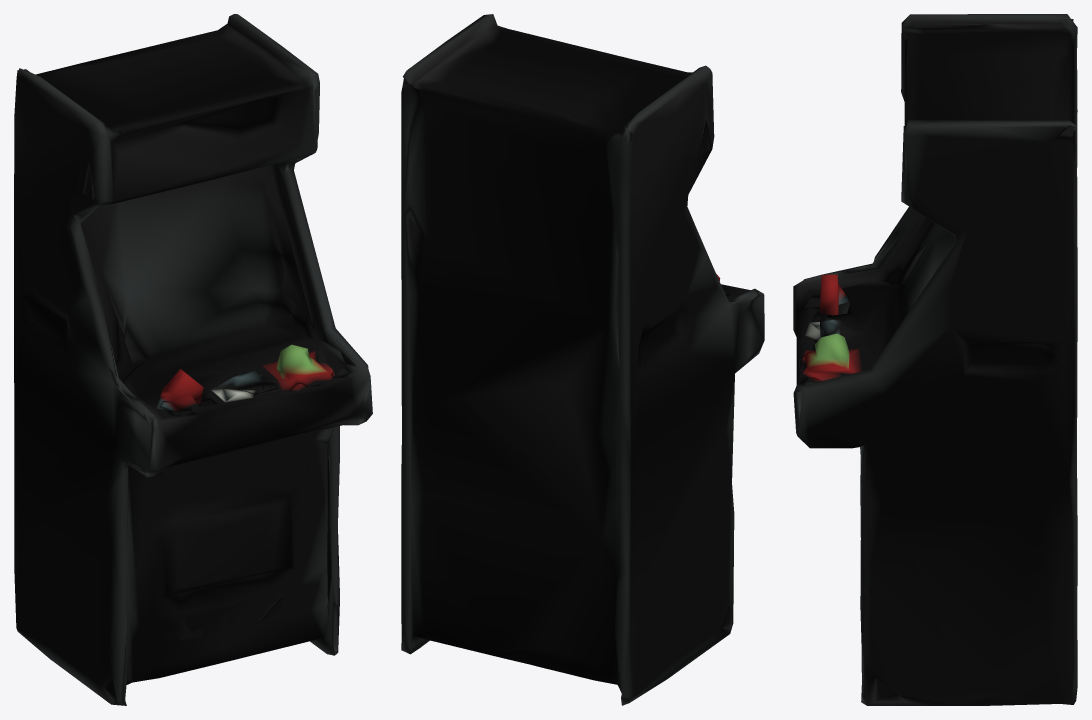
The model's file is gen3d-arcade-cabinet-lod0.glb.
3 views of the same model, side by side, from view 1: azimuth 30°, elevation 25°; view 2: azimuth 150°, elevation 25°; view 3: azimuth 270°, elevation 25° (orthographic). The views are drawn at different scales.
Visible parts, largest first — view 1: part_0; view 2: part_0; view 3: part_0.
Part boxes in pixels (x1,y1,x2,y2): part_0: [14, 14, 372, 705]; part_0: [401, 14, 764, 705]; part_0: [793, 14, 1077, 705].
Size of the model in its own units: 0.4147 by 1 by 0.4422.
